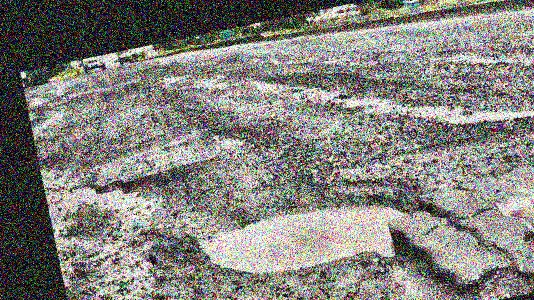pothole: (192, 174, 455, 298)
